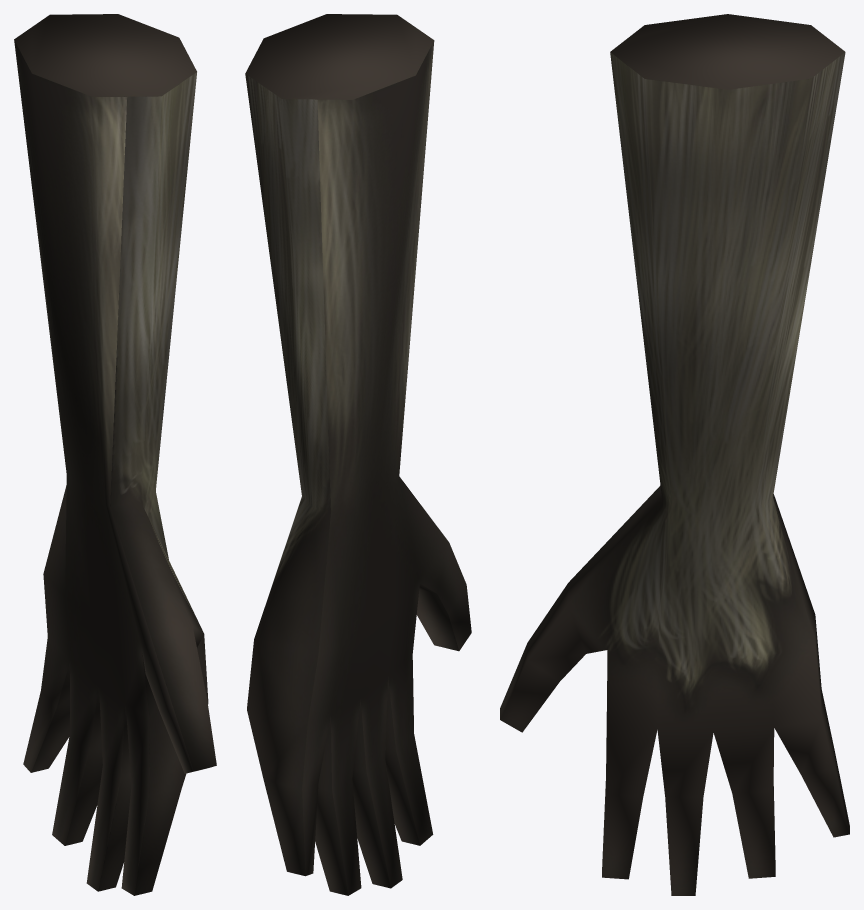
The model's file is SolanHandLeft.fbx.
3 views of the same model, side by side, from view 1: azimuth 30°, elevation 25°; view 2: azimuth 150°, elevation 25°; view 3: azimuth 270°, elevation 25° (orthographic). The views are drawn at different scales.
Parts seen in each view (by area): view 1: SolansLH; view 2: SolansLH; view 3: SolansLH.
Boxes of the visible parts, <box> form: SolansLH: <box>14,14,216,895</box>; SolansLH: <box>245,14,471,895</box>; SolansLH: <box>500,14,849,895</box>.
Size of the model in its own units: 8.55 by 44.8 by 16.66.
1 material, 1 textured.
